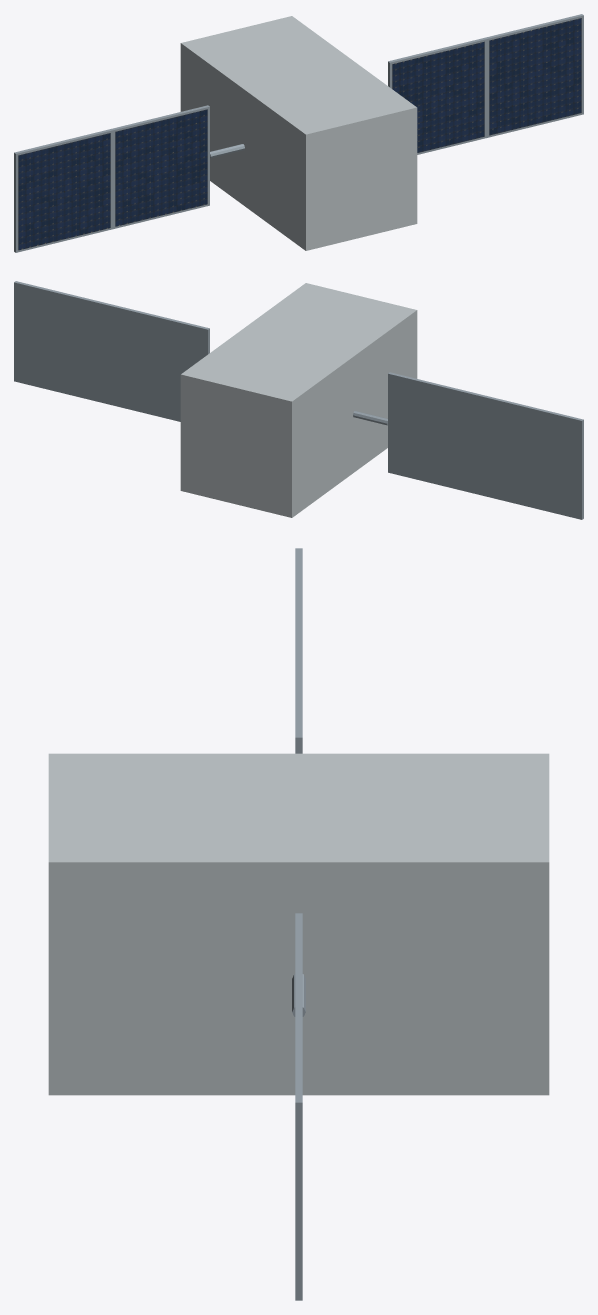
Rendered from ref-proteus-26997.glb.
The picture shows the model from 3 angles, top to bottom: view 1: azimuth 30°, elevation 25°; view 2: azimuth 150°, elevation 25°; view 3: azimuth 270°, elevation 25°; orthographic projection. The views are drawn at different scales.
Parts seen in each view (by area): view 1: Spacecraft body, Photovoltaic laminates (×4), Array frame (×4); view 2: Spacecraft body, Array frame (×4); view 3: Spacecraft body, Array frame.
Boxes of the visible parts, <box> form: Spacecraft body: <box>180,16,417,250</box>; Photovoltaic laminates (×4): <box>18,18,581,250</box>; Array frame (×4): <box>14,14,583,252</box>; Spacecraft body: <box>180,283,417,517</box>; Array frame (×4): <box>14,281,583,519</box>; Spacecraft body: <box>48,753,549,1095</box>; Array frame: <box>295,1008,302,1300</box>.
Bounding box in the file's own units: 9.7 × 1.9 × 3.7.
Materials: 3 (1 with a texture image).
